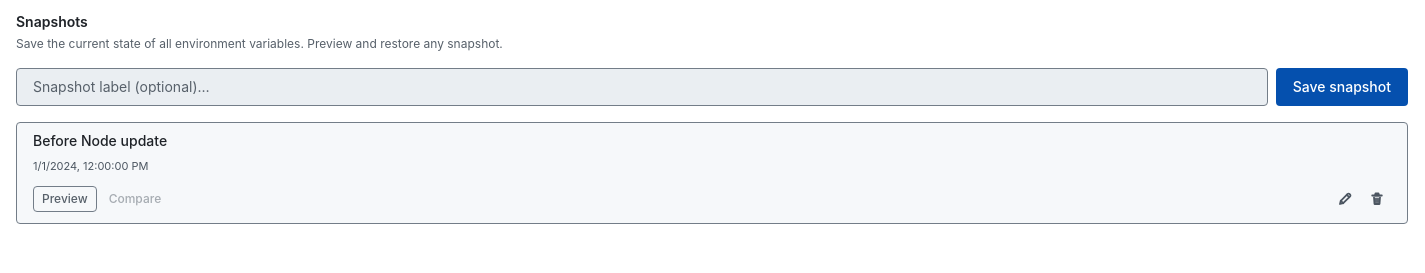
Test: SnapshotPanel › shows success message after creating snapshot
Click the button "Save snapshot" at (1342, 87), box [1276,68,1408,106]
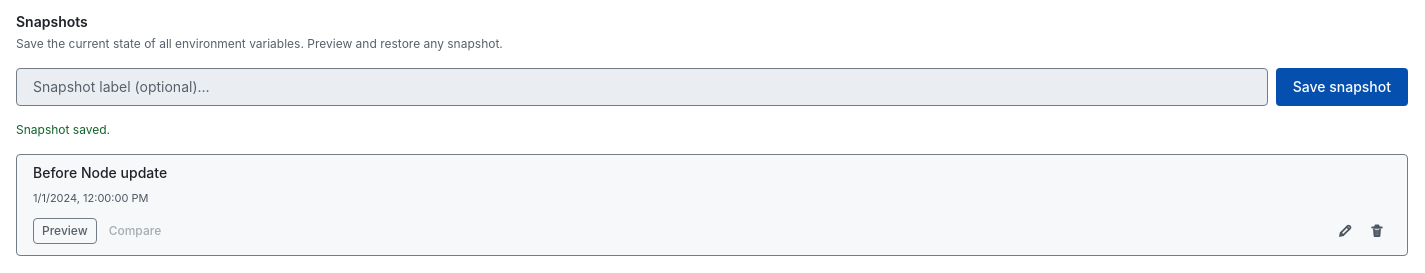
Expected: the text "Snapshot saved." is shown, [16,122,110,137]
